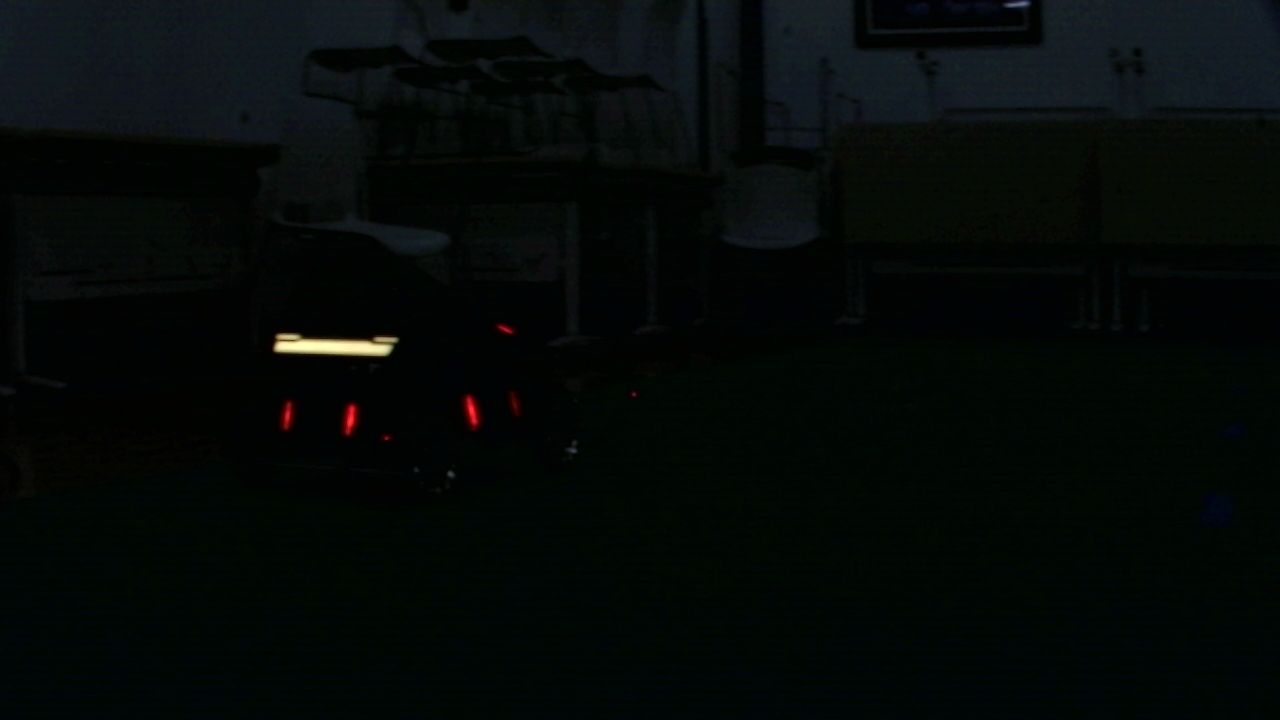lamp: (462, 392, 483, 431), (342, 398, 358, 437), (281, 401, 295, 432)
pair1: (278, 399, 361, 436)
